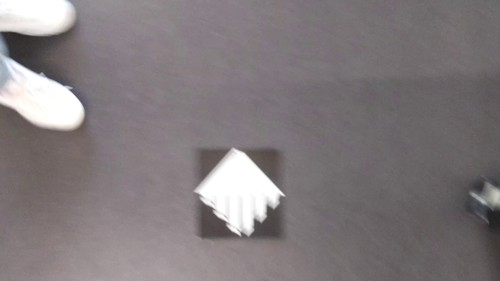misgoods: (189, 141, 288, 237)
